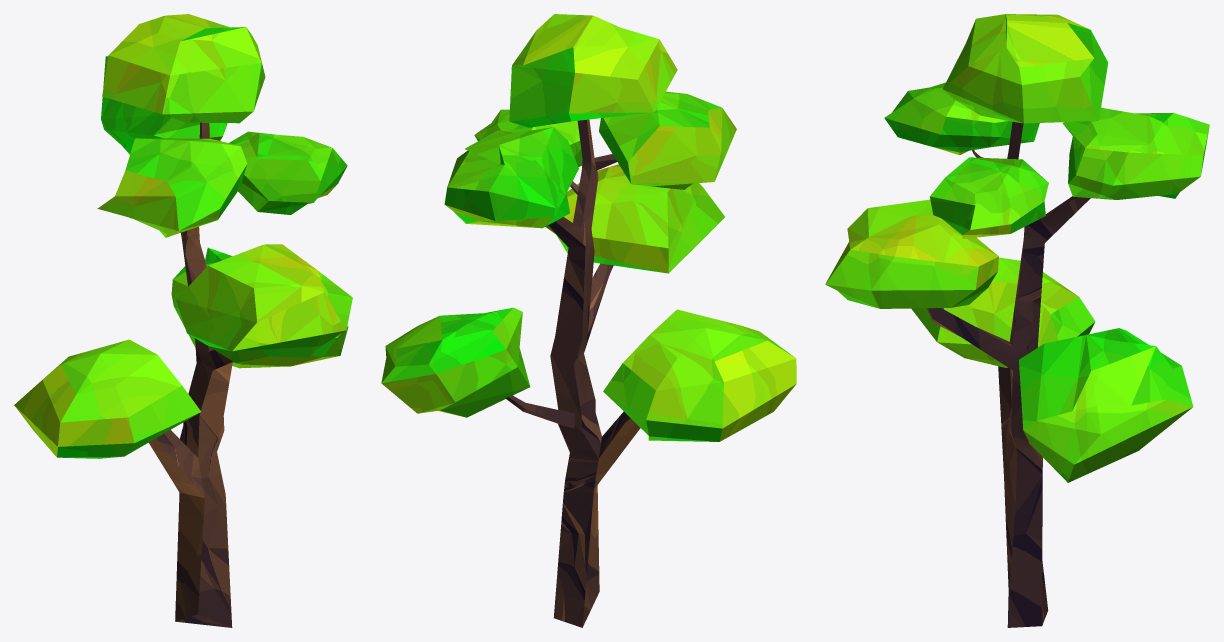
The model's file is Tree1.fbx.
3 renders of one model, left to right at view 1: azimuth 30°, elevation 25°; view 2: azimuth 150°, elevation 25°; view 3: azimuth 270°, elevation 25°, orthographic.
Parts seen in each view (by area): view 1: polySurface9; view 2: polySurface9; view 3: polySurface9.
Boxes of the visible parts, x1,y1,x2,y2 form: polySurface9: (14,14,352,627); polySurface9: (381,14,796,627); polySurface9: (825,14,1209,627).
Size of the model in its own units: 1183 by 1935 by 1135.
Materials: 2 (2 with a texture image).
